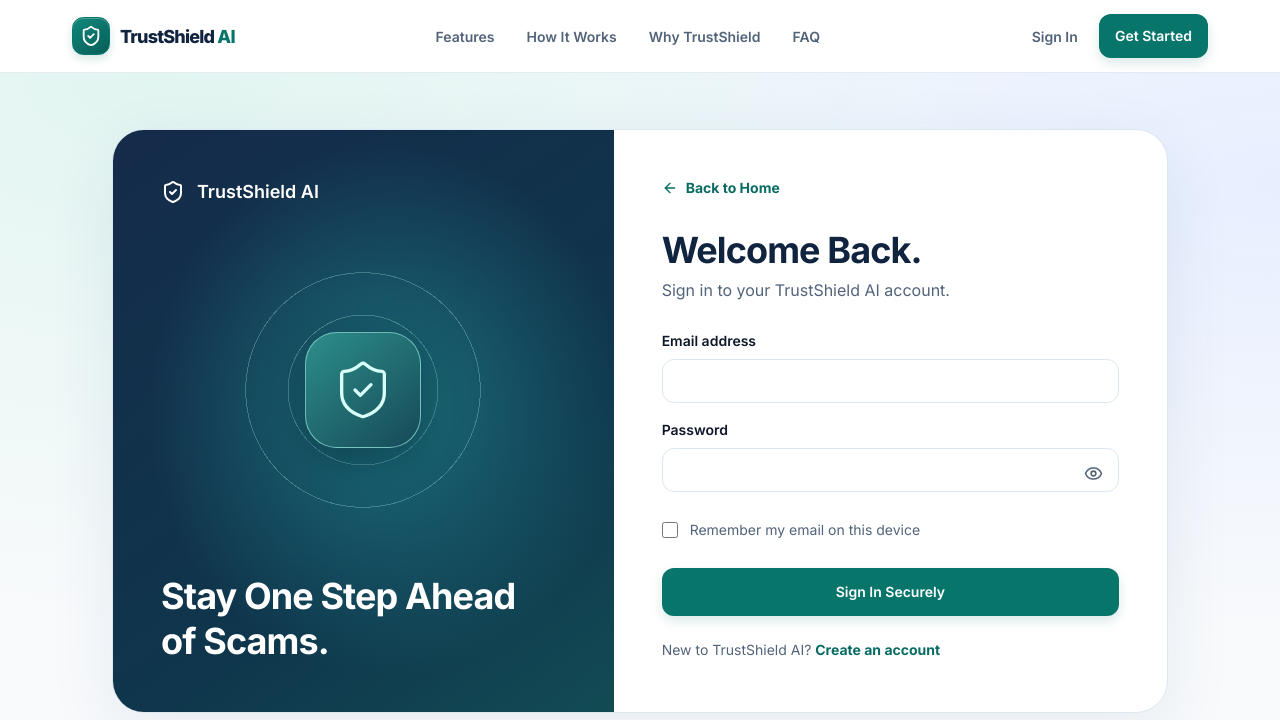
Test case: TrustShield authentication UI › protects deep links and returns to the requested route after login
Step 1. Type "alex@example.com" into the field labelled "Email address" → x=890, y=381, box left=662, top=359, right=1119, bottom=403
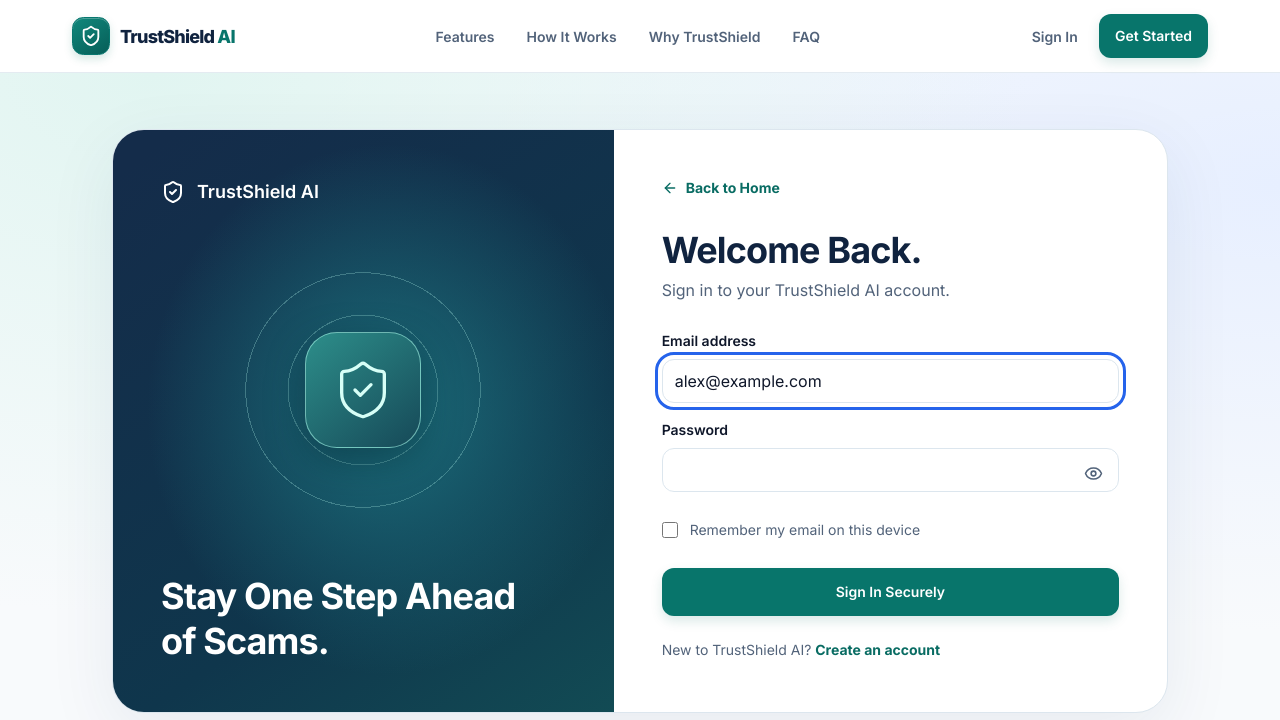
Step 2. Type "correct horse battery staple" into the password field labelled "Password" → x=890, y=470, box left=662, top=448, right=1119, bottom=492
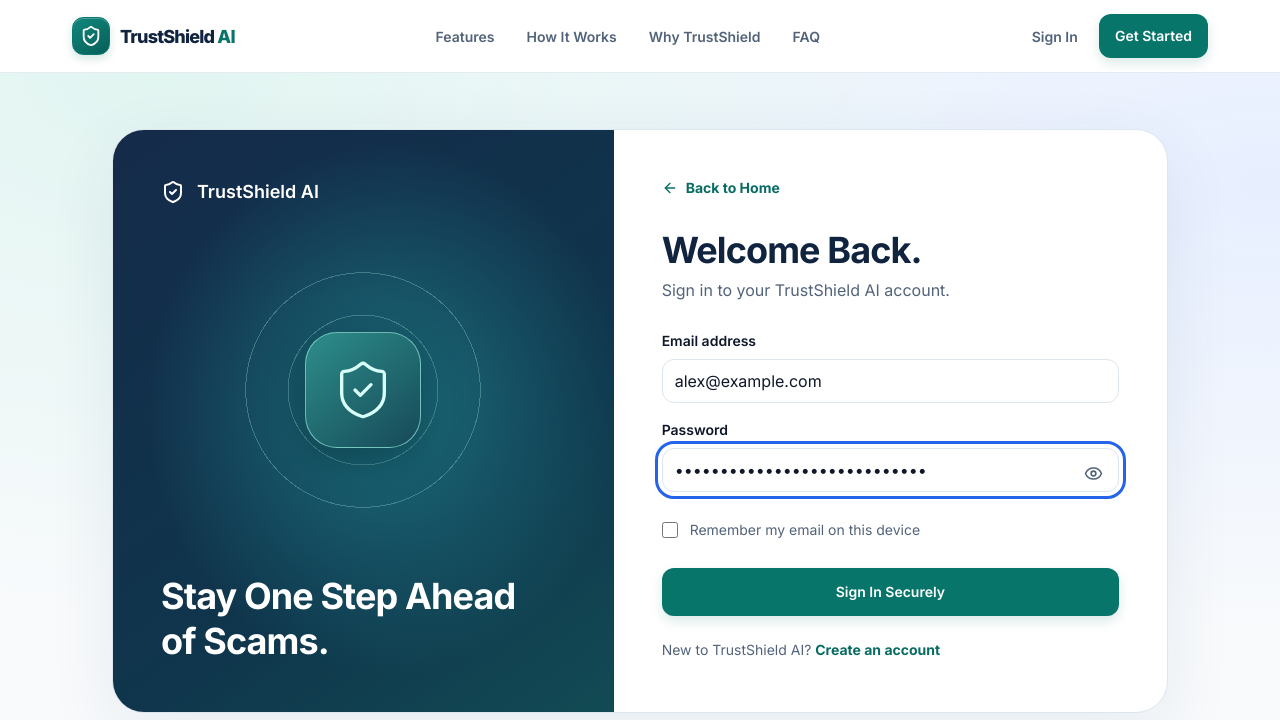
Step 3. Press Enter
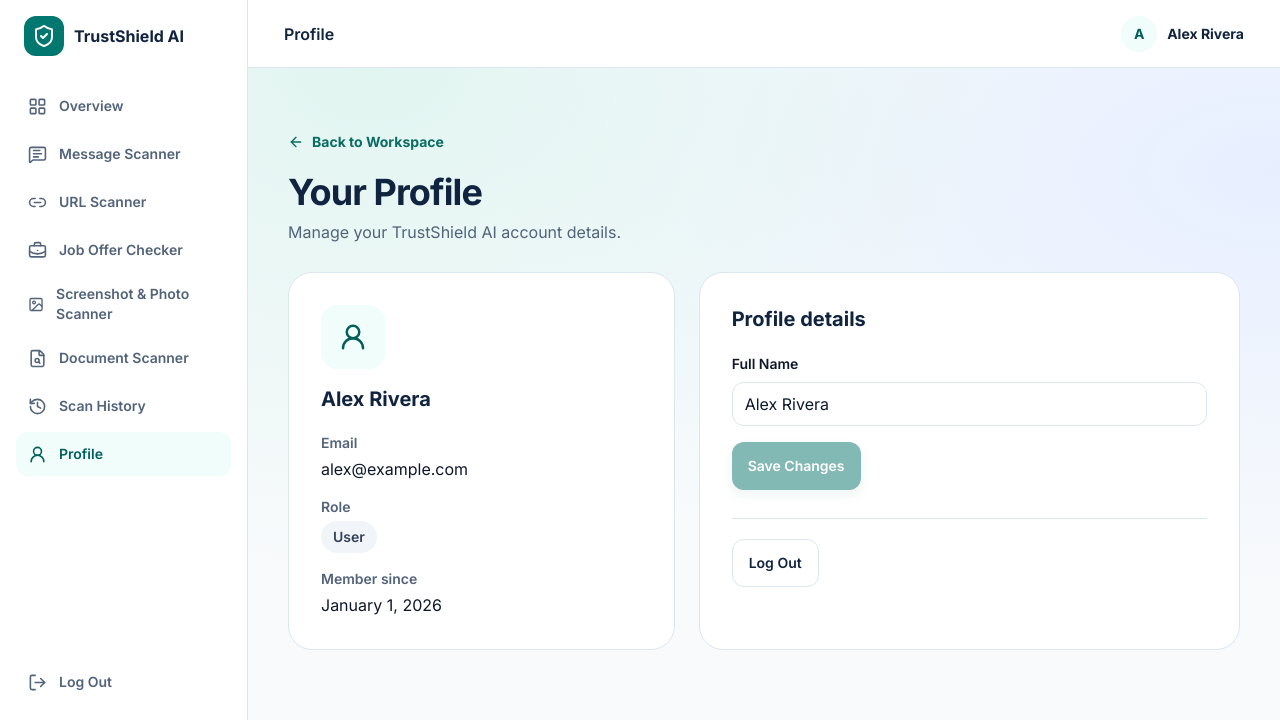
Result: the heading "Your Profile" is shown at left=288, top=170, right=482, bottom=214
Result: the text "alex@example.com" is shown at left=321, top=459, right=468, bottom=479
